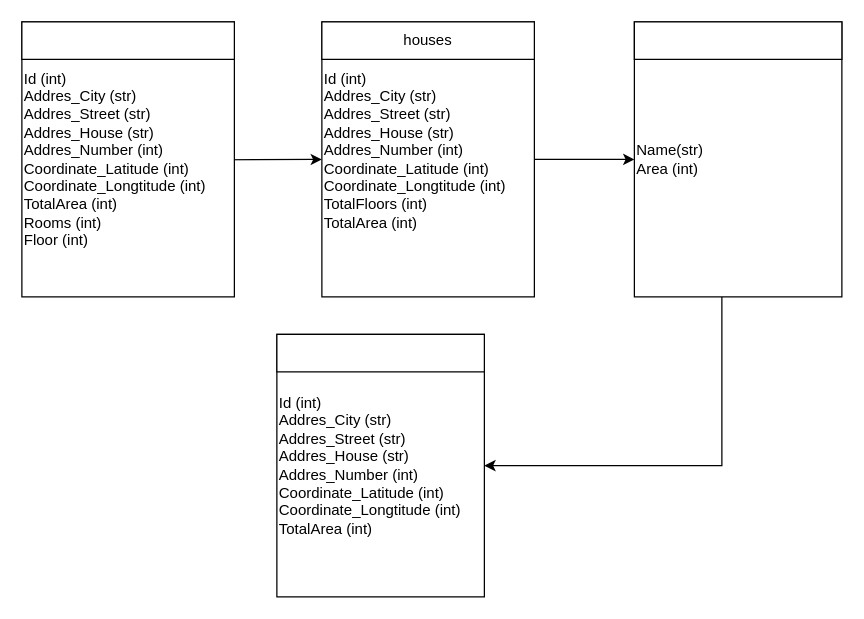
Some shapes in this 864 by 619 pixel diagram are drawn without their labels. The centre of each missing label's shape, as x and y in pixels:
"apartments" belongs at point 127,40.
"districts" belongs at point 737,40.
"lands" belongs at point 380,352.
